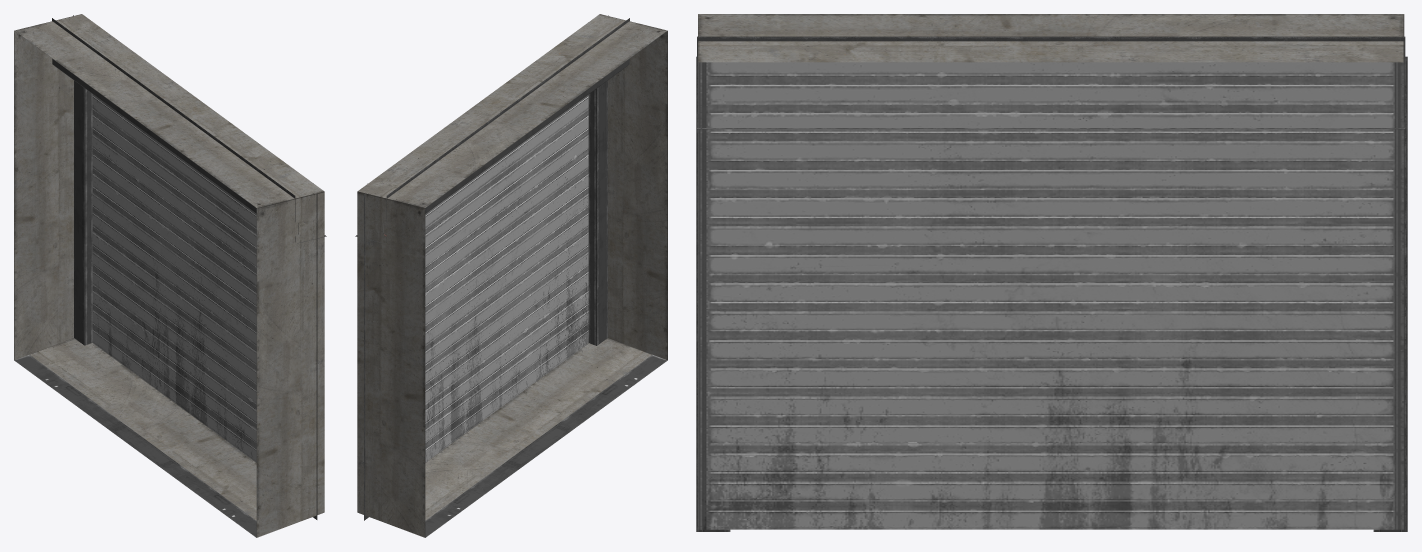
Rendered from CP_Wall_Roller_Shutters_06.fbx.
The picture shows the model from 3 angles, left to right: view 1: azimuth 30°, elevation 25°; view 2: azimuth 150°, elevation 25°; view 3: azimuth 270°, elevation 25°; orthographic projection. The views are drawn at different scales.
Parts seen in each view (by area): view 1: CP_Wall_Roller_Shutters_06; view 2: CP_Wall_Roller_Shutters_06; view 3: CP_Wall_Roller_Shutters_06.
Boxes of the visible parts, box(x1,y1,x2,y2) form: CP_Wall_Roller_Shutters_06: box(14, 14, 326, 537); CP_Wall_Roller_Shutters_06: box(355, 14, 667, 537); CP_Wall_Roller_Shutters_06: box(696, 14, 1407, 531).
Size of the model in its own units: 66.64 by 303 by 403.
